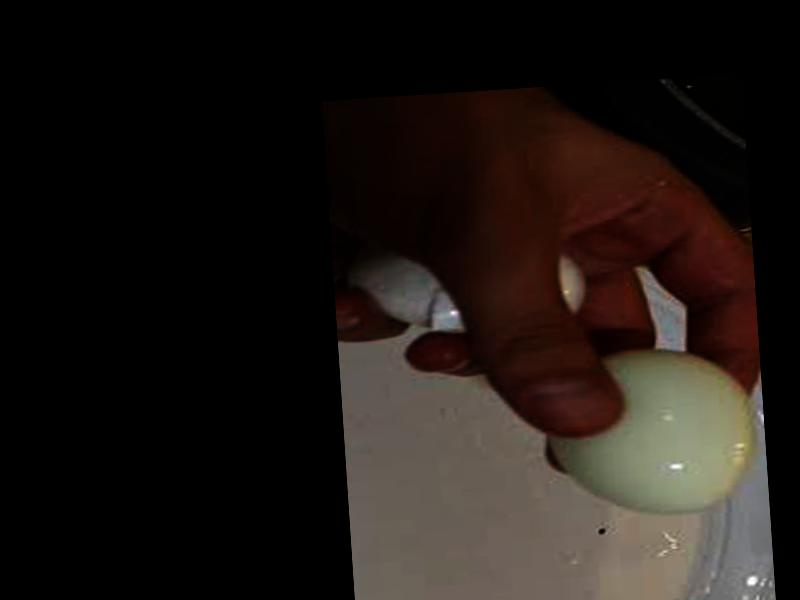Eggs: (540, 341, 766, 517)
